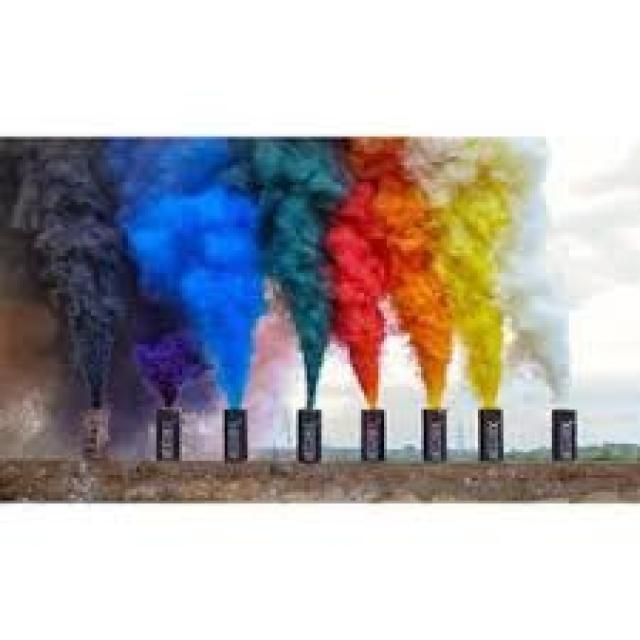Smoke: (0, 136, 573, 412)
